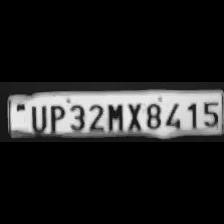1: (182, 99, 198, 129)
2: (86, 101, 104, 131)
3: (65, 101, 85, 131)
4: (162, 99, 182, 129)
5: (198, 98, 220, 128)
8: (142, 99, 162, 130)
M: (104, 100, 124, 132)
P: (46, 102, 64, 132)
U: (28, 102, 46, 132)
X: (124, 99, 142, 131)
